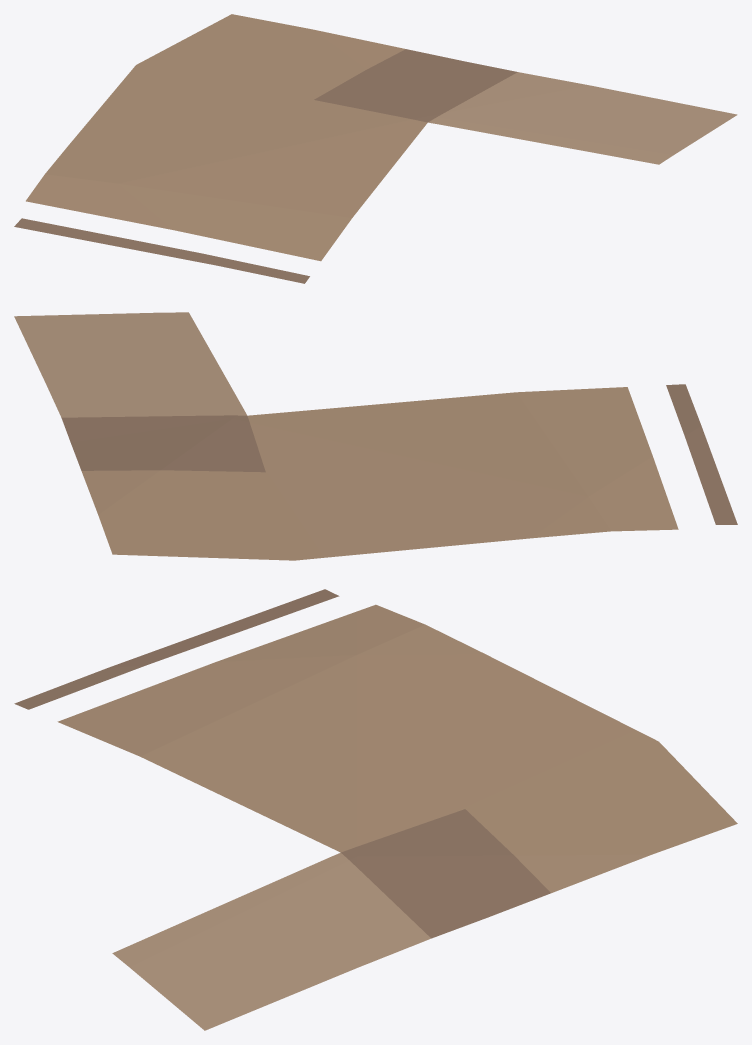
Rendered from farm_7_21_soil.glb.
3 renders of one model, top to bottom at view 1: azimuth 30°, elevation 25°; view 2: azimuth 150°, elevation 25°; view 3: azimuth 270°, elevation 25°, orthographic. The views are drawn at different scales.
Visible parts, largest first — view 1: geometry_0; view 2: geometry_0; view 3: geometry_0.
Boxes of the visible parts, left/top/right/bottom form: geometry_0: left=14, top=14, right=737, bottom=283; geometry_0: left=14, top=312, right=737, bottom=560; geometry_0: left=14, top=589, right=737, bottom=1030.
Bounding box in the file's own units: 175 × 6.07 × 128.
